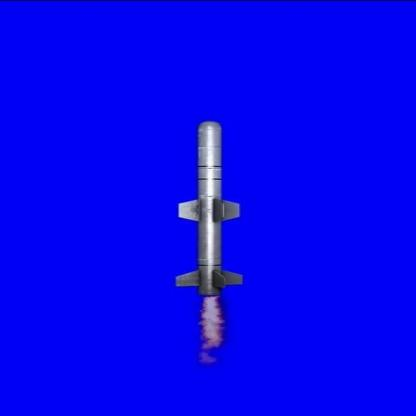MIL_TBM: (170, 120, 244, 303)
